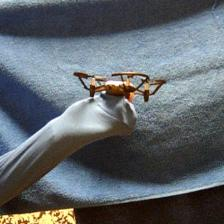drone: (71, 70, 166, 103)
